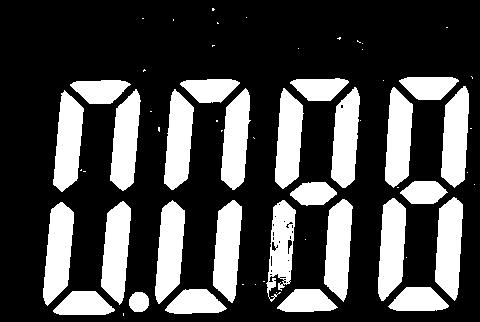0: (41, 79, 141, 317), (157, 78, 253, 316)
8: (377, 76, 473, 313), (268, 77, 359, 313)
dot: (128, 290, 152, 312)
